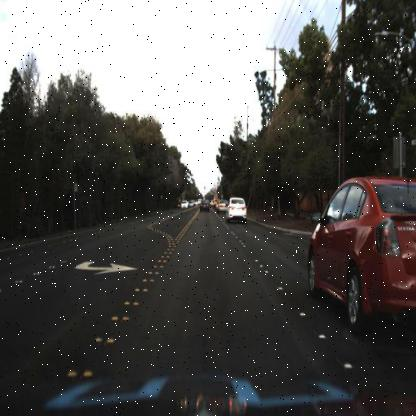car: (305, 175, 413, 334), (224, 194, 249, 224), (214, 195, 230, 215), (198, 196, 211, 215), (178, 197, 192, 212)
